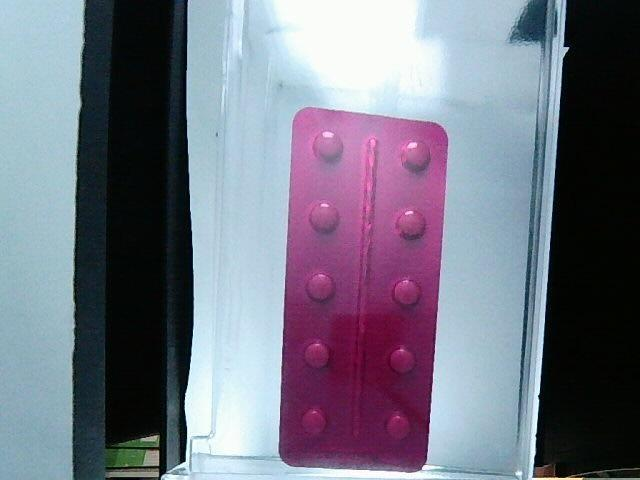Light Front: (280, 108, 447, 471)
Pill Front: (393, 204, 429, 240), (383, 338, 417, 376), (310, 127, 344, 163), (399, 136, 433, 171), (300, 267, 335, 300), (300, 335, 333, 370), (306, 198, 339, 231), (382, 408, 413, 443), (294, 406, 328, 437), (392, 276, 423, 309)
